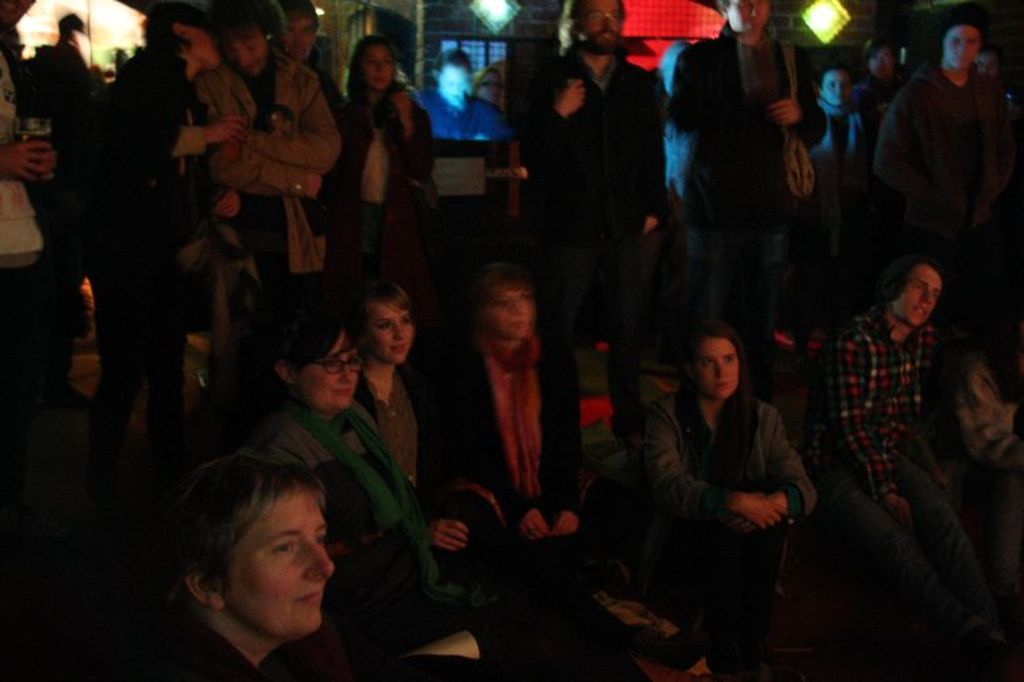Human_hand: (744, 475, 815, 556), (0, 141, 51, 187), (430, 519, 476, 557), (205, 115, 246, 150), (555, 75, 586, 117), (883, 492, 919, 527), (766, 97, 804, 128), (209, 190, 245, 221), (519, 508, 549, 541), (551, 511, 583, 540), (390, 88, 415, 124), (303, 171, 320, 201)
